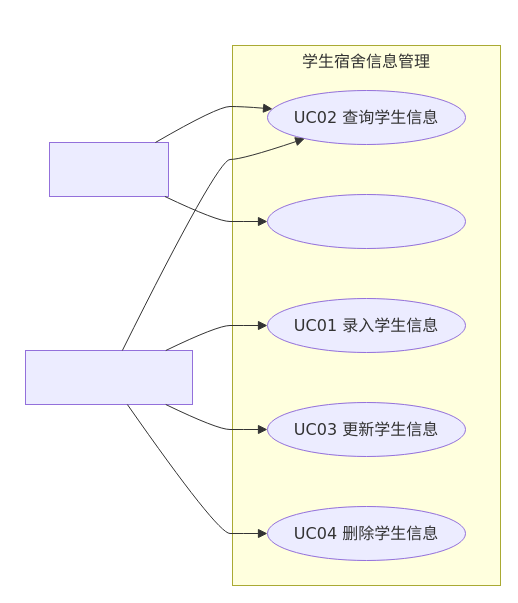
Some shapes in this 518 by 603 pixel diagram are drawn without their labels. Each missing label, with the centre of its shape:
"UC22 智能咨询问答" goes at [366,221].
"学生" goes at [108,169].
"宿舍管理员" goes at [108,377].
